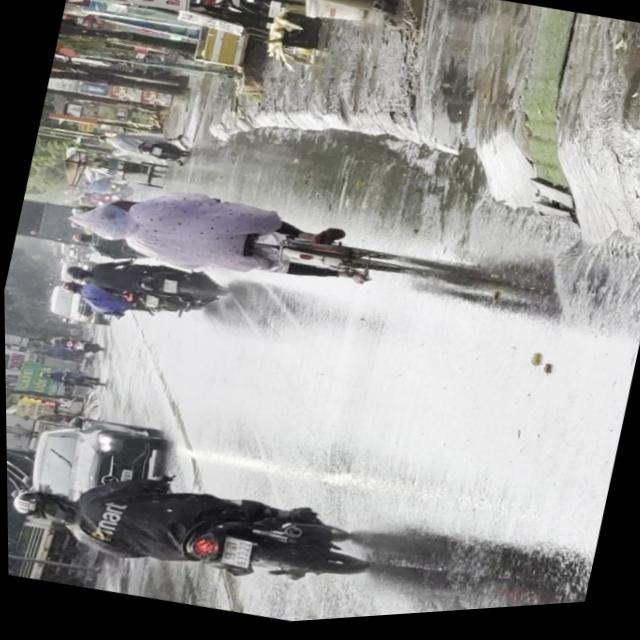helmet: (6, 483, 69, 529), (58, 264, 87, 285)
licenseplate: (5, 433, 389, 628), (53, 240, 231, 327)
nohelmet: (217, 539, 248, 572), (159, 280, 176, 296)
